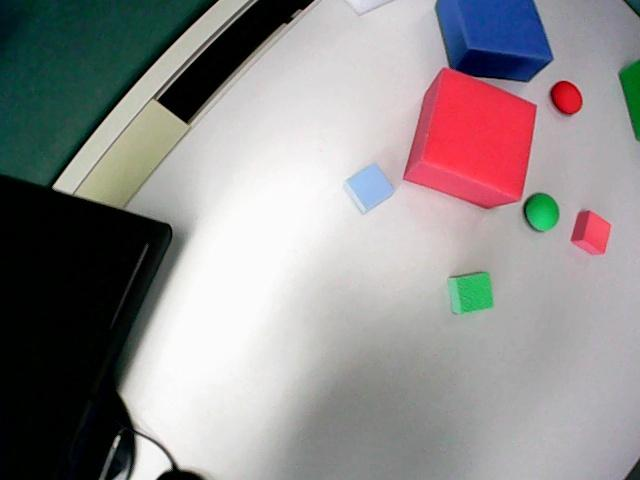blue_block: (436, 0, 552, 80), (345, 163, 393, 212), (625, 0, 639, 14)
red_block: (404, 68, 535, 207), (571, 211, 610, 254)
